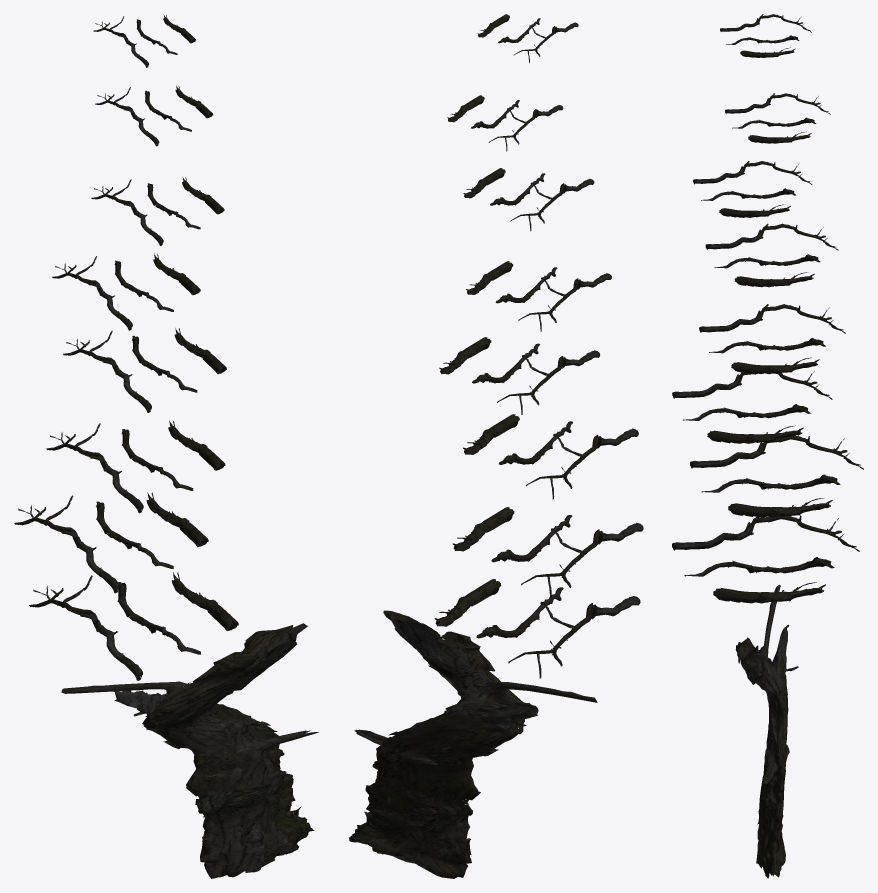
File: dead_winter_tree.glb
The picture shows the model from 3 angles, left to right: view 1: azimuth 30°, elevation 25°; view 2: azimuth 150°, elevation 25°; view 3: azimuth 270°, elevation 25°; orthographic projection. The views are drawn at different scales.
Parts seen in each view (by area): view 1: dead_tree_trunk_02, dry_branches_medium_01_c.001, dry_branches_medium_01_c.002, dry_branches_medium_01_c.003, dry_branches_medium_01_c.004, dry_branches_medium_01_c.005, dry_branches_medium_01_c.006, dry_branches_medium_01_c.007, dry_branches_medium_01_c.008; view 2: dead_tree_trunk_02, dry_branches_medium_01_c.001, dry_branches_medium_01_c.002, dry_branches_medium_01_c.003, dry_branches_medium_01_c.004, dry_branches_medium_01_c.005, dry_branches_medium_01_c.006, dry_branches_medium_01_c.007, dry_branches_medium_01_c.008; view 3: dead_tree_trunk_02, dry_branches_medium_01_c.001, dry_branches_medium_01_c.002, dry_branches_medium_01_c.003, dry_branches_medium_01_c.004, dry_branches_medium_01_c.005, dry_branches_medium_01_c.006, dry_branches_medium_01_c.007, dry_branches_medium_01_c.008.
Boxes of the visible parts, box(x1,y1,x2,y2) form: dead_tree_trunk_02: box(61, 623, 318, 878); dry_branches_medium_01_c.001: box(29, 572, 238, 680); dry_branches_medium_01_c.002: box(14, 492, 208, 593); dry_branches_medium_01_c.003: box(46, 420, 225, 513); dry_branches_medium_01_c.004: box(63, 328, 226, 412); dry_branches_medium_01_c.005: box(52, 253, 200, 330); dry_branches_medium_01_c.006: box(91, 177, 224, 245); dry_branches_medium_01_c.007: box(95, 85, 213, 146); dry_branches_medium_01_c.008: box(93, 14, 195, 67); dead_tree_trunk_02: box(349, 610, 597, 878); dry_branches_medium_01_c.001: box(434, 579, 640, 678); dry_branches_medium_01_c.002: box(453, 507, 643, 599); dry_branches_medium_01_c.003: box(463, 414, 638, 499); dry_branches_medium_01_c.004: box(439, 337, 600, 414); dry_branches_medium_01_c.005: box(466, 261, 611, 331); dry_branches_medium_01_c.006: box(463, 168, 594, 231); dry_branches_medium_01_c.007: box(447, 95, 563, 151); dry_branches_medium_01_c.008: box(477, 14, 578, 62); dead_tree_trunk_02: box(735, 584, 798, 878); dry_branches_medium_01_c.001: box(672, 515, 859, 603); dry_branches_medium_01_c.002: box(690, 435, 863, 517); dry_branches_medium_01_c.003: box(672, 371, 832, 443); dry_branches_medium_01_c.004: box(699, 304, 845, 374); dry_branches_medium_01_c.005: box(705, 223, 838, 287); dry_branches_medium_01_c.006: box(693, 161, 812, 217); dry_branches_medium_01_c.007: box(725, 93, 830, 143); dry_branches_medium_01_c.008: box(720, 14, 811, 57).
Size of the model in its own units: 3.12 by 10.02 by 2.19.
Materials: 1 (1 with a texture image).
